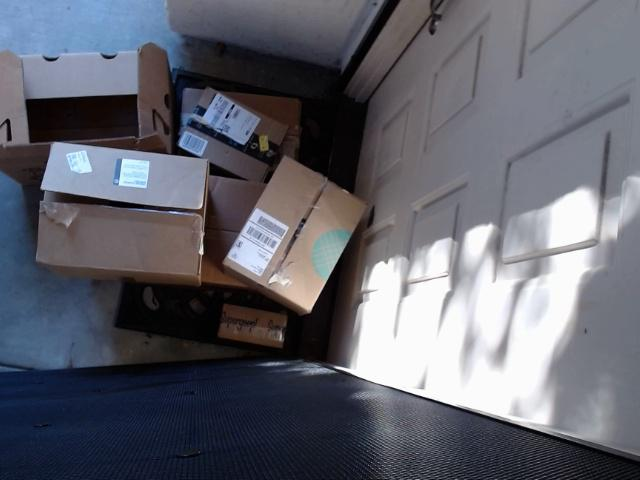box: (15, 136, 213, 301), (231, 151, 389, 326), (6, 36, 188, 169), (152, 69, 311, 192), (212, 308, 308, 353)
